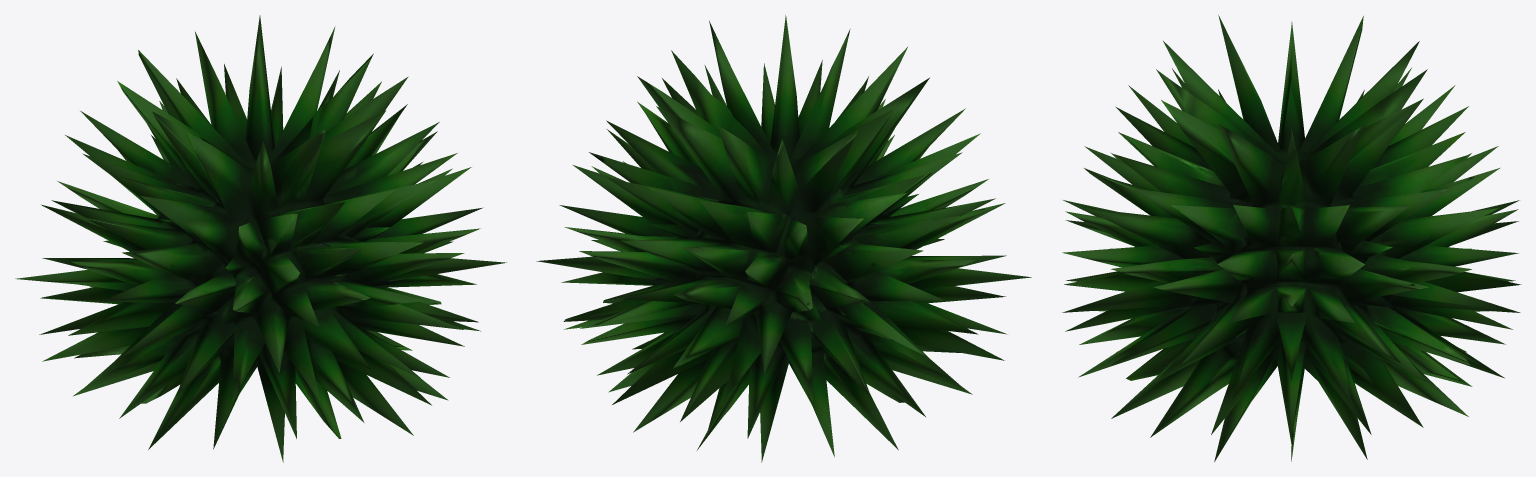
The model's file is arbusteo5.fbx.
3 renders of one model, left to right at view 1: azimuth 30°, elevation 25°; view 2: azimuth 150°, elevation 25°; view 3: azimuth 270°, elevation 25°, orthographic. The views are drawn at different scales.
Parts seen in each view (by area): view 1: tripo_node_e5cec398; view 2: tripo_node_e5cec398; view 3: tripo_node_e5cec398.
Part boxes in pixels (<box>): tripo_node_e5cec398: <box>15,15,506,462</box>; tripo_node_e5cec398: <box>536,15,1031,462</box>; tripo_node_e5cec398: <box>1062,15,1521,461</box>.
Size of the model in its own units: 1 by 0.7686 by 1.
1 material, 1 textured.
